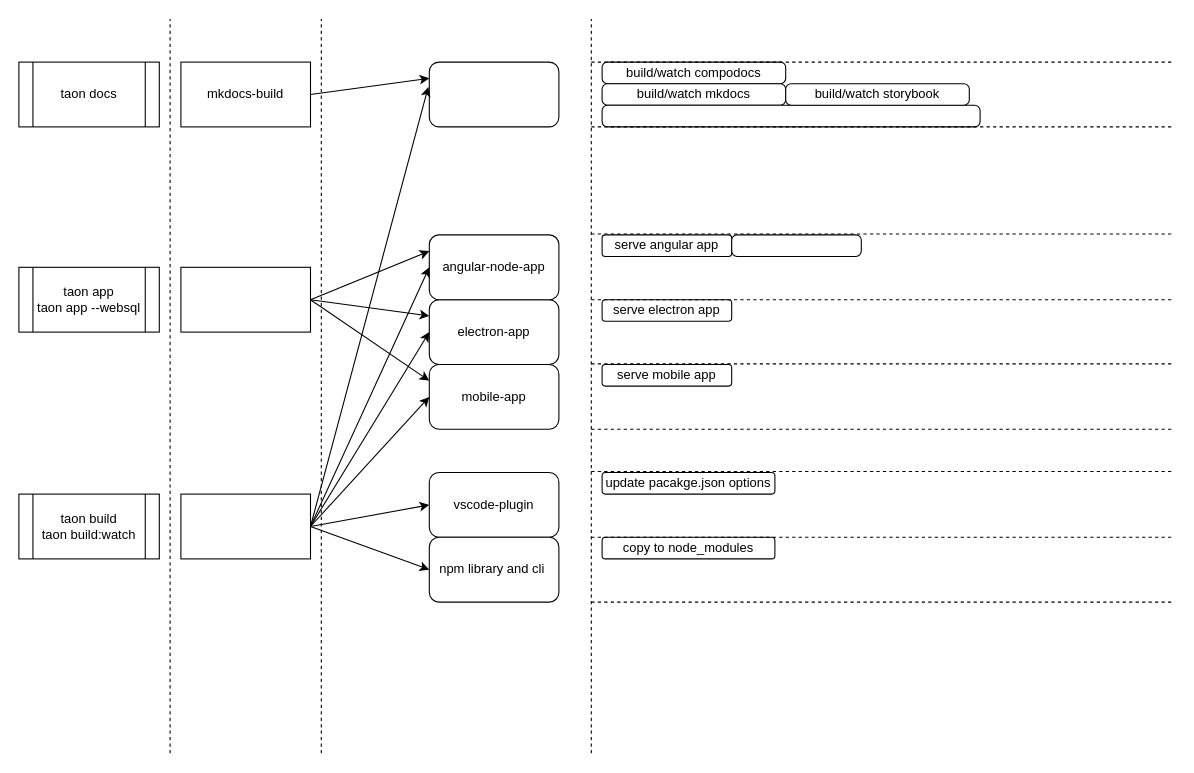
The diagram is 1194 pixels wide and 773 high, and some of its shapes have lost their labels. Here are the shapes that lost their labels. From the top down, the centre of each, then its label:
the point at 493,94: docs-webapp
the point at 790,115: router when watching build of compodoc/storyboko/mkdocs
the point at 796,245: update assets-list
the point at 245,299: angular ng build/serve
the point at 245,526: typescirpt isomorpohic lib build
